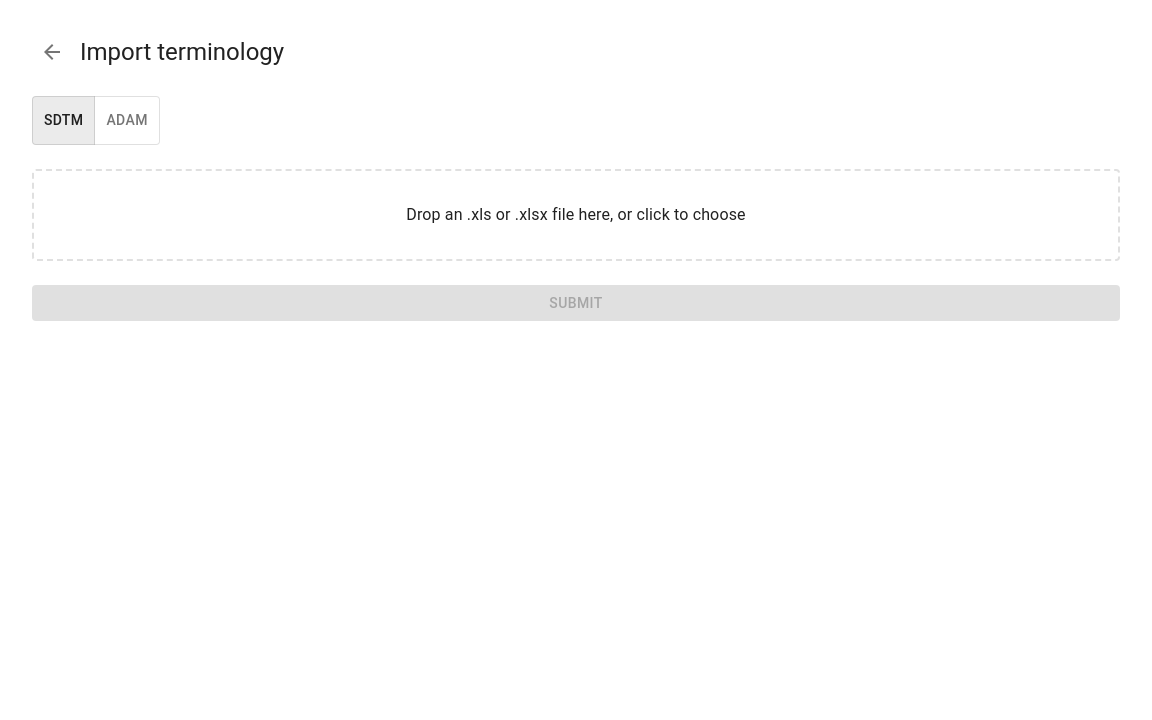
ImportTerminologyPage — submit › shows the error Snackbar when the API rejects with Http 409
This screenshot has width=1152, height=720.
Click the button "Drop an .xls or .xlsx file here, or click to choose" at [576, 214], box top-left (32, 168), bottom-right (1120, 260)
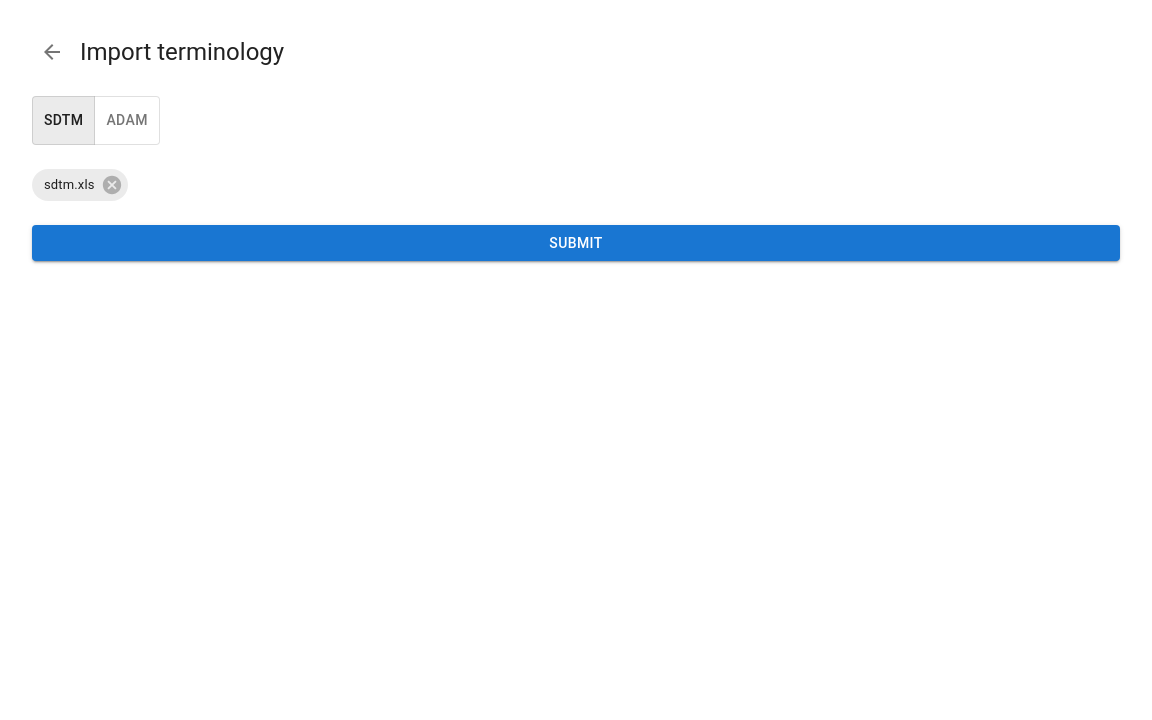
expect the text "sdtm.xls" is shown: met, box top-left (44, 177), bottom-right (95, 192)
Click the button "Submit" at [576, 243], box top-left (32, 224), bottom-right (1120, 261)
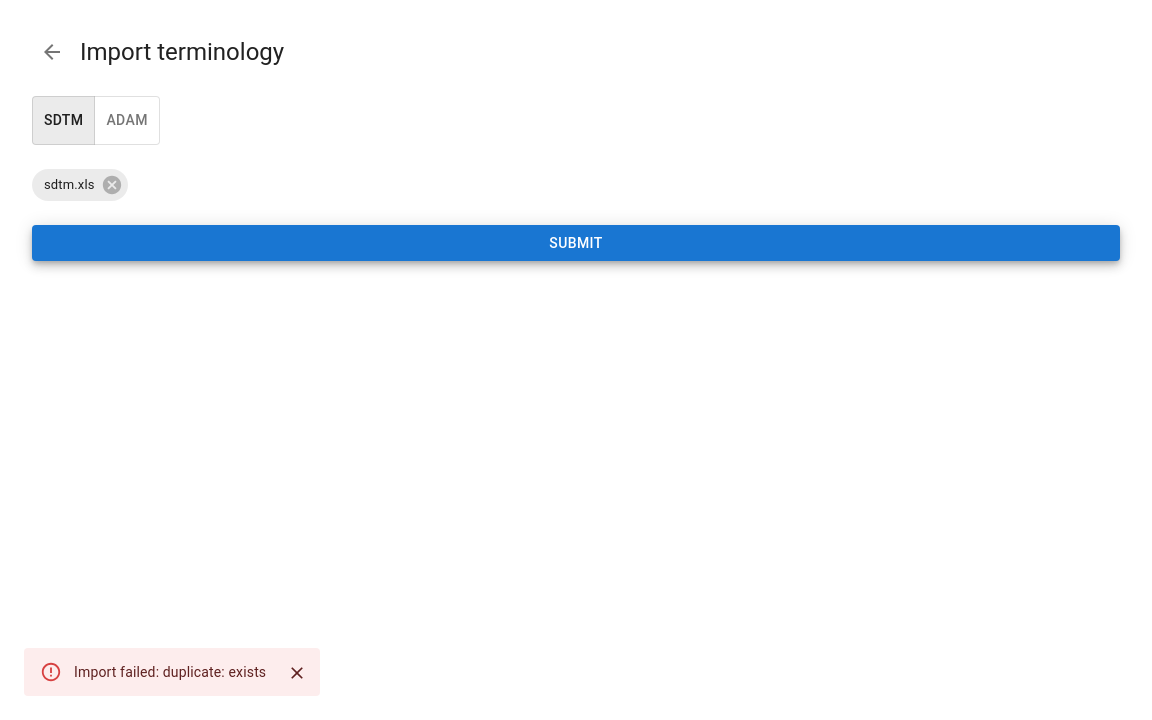
expect the message shows "Import failed": met, box top-left (74, 664), bottom-right (266, 680)
